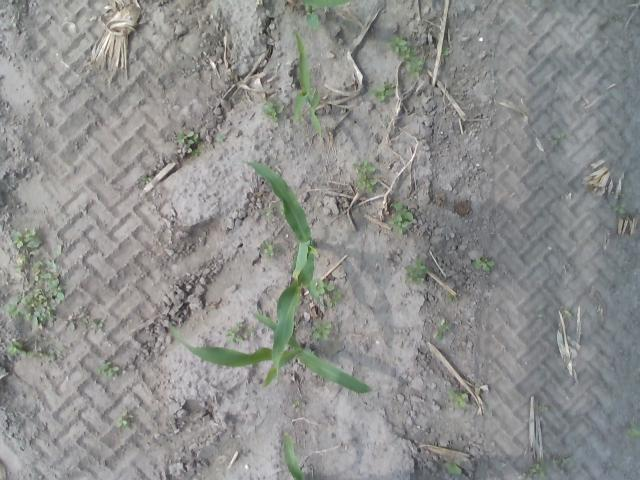Maize: (173, 311, 374, 394), (244, 162, 316, 386), (290, 34, 330, 138), (280, 432, 308, 480), (300, 0, 348, 8)
Weeds: (10, 252, 64, 336), (12, 228, 41, 251), (404, 262, 424, 284), (30, 347, 57, 363), (262, 102, 284, 121), (388, 215, 410, 234), (372, 82, 392, 102), (354, 162, 376, 180), (101, 359, 120, 379), (433, 318, 452, 338), (314, 322, 332, 340), (226, 324, 242, 344), (407, 58, 424, 76), (452, 390, 468, 408), (9, 340, 27, 356), (357, 180, 378, 193), (262, 241, 280, 256), (394, 204, 413, 218), (318, 278, 334, 294), (89, 318, 105, 334), (390, 38, 408, 52), (444, 460, 462, 474), (329, 288, 342, 307), (472, 259, 494, 270), (306, 12, 319, 30), (178, 130, 194, 144), (264, 205, 278, 220), (549, 132, 564, 144), (612, 202, 626, 214), (187, 145, 200, 157), (64, 318, 76, 331), (247, 326, 258, 339), (400, 46, 410, 60), (532, 464, 544, 475), (624, 428, 638, 437), (116, 417, 127, 427), (216, 132, 226, 142), (140, 177, 152, 185), (538, 405, 548, 411), (444, 46, 450, 55), (294, 400, 300, 406), (619, 192, 625, 198), (614, 15, 621, 20), (448, 294, 453, 301)
